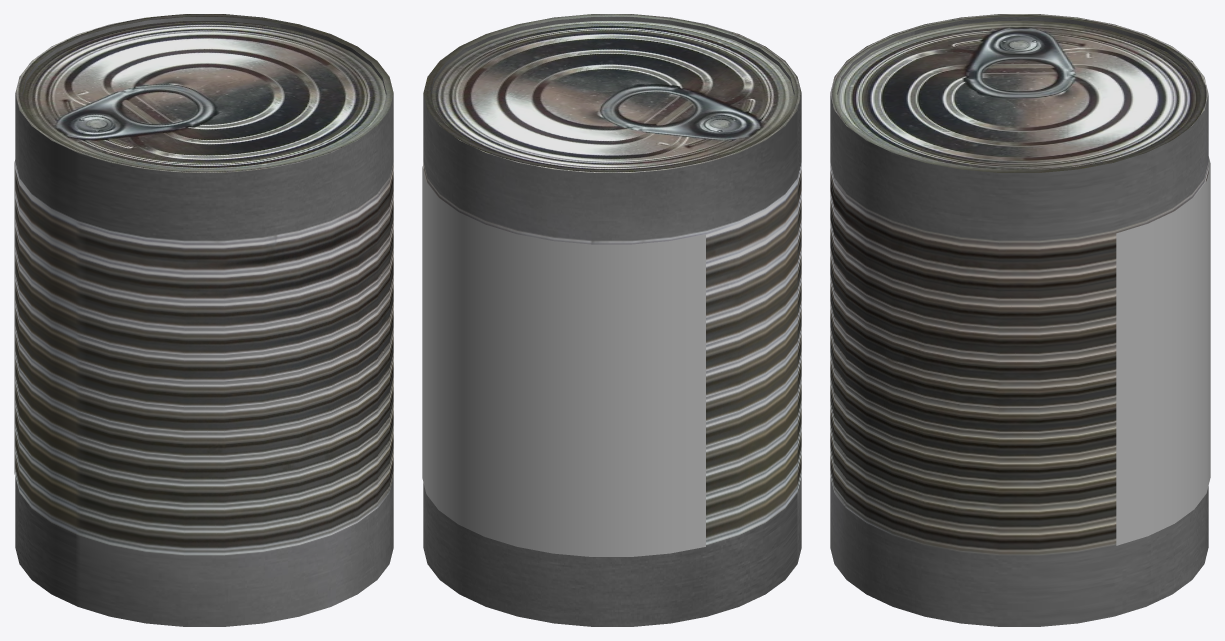
The model's file is tinWithLabel.fbx.
3 renders of one model, left to right at view 1: azimuth 30°, elevation 25°; view 2: azimuth 150°, elevation 25°; view 3: azimuth 270°, elevation 25°, orthographic.
Visible parts, largest first — view 1: Cylinder, Label; view 2: Cylinder, Label; view 3: Cylinder, Label.
Boxes of the visible parts, box(x1,y1,x2,y2) form: Cylinder: box(15, 14, 393, 626); Label: box(14, 160, 15, 474); Cylinder: box(423, 14, 801, 626); Label: box(422, 166, 705, 556); Cylinder: box(830, 14, 1208, 626); Label: box(1116, 156, 1210, 545).
Bounding box in the file's own units: 199 × 265 × 201.
